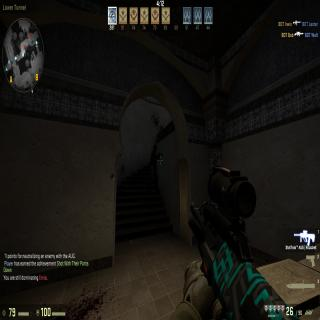T-Body: (148, 144, 158, 194)
T-Head: (153, 144, 158, 153)
